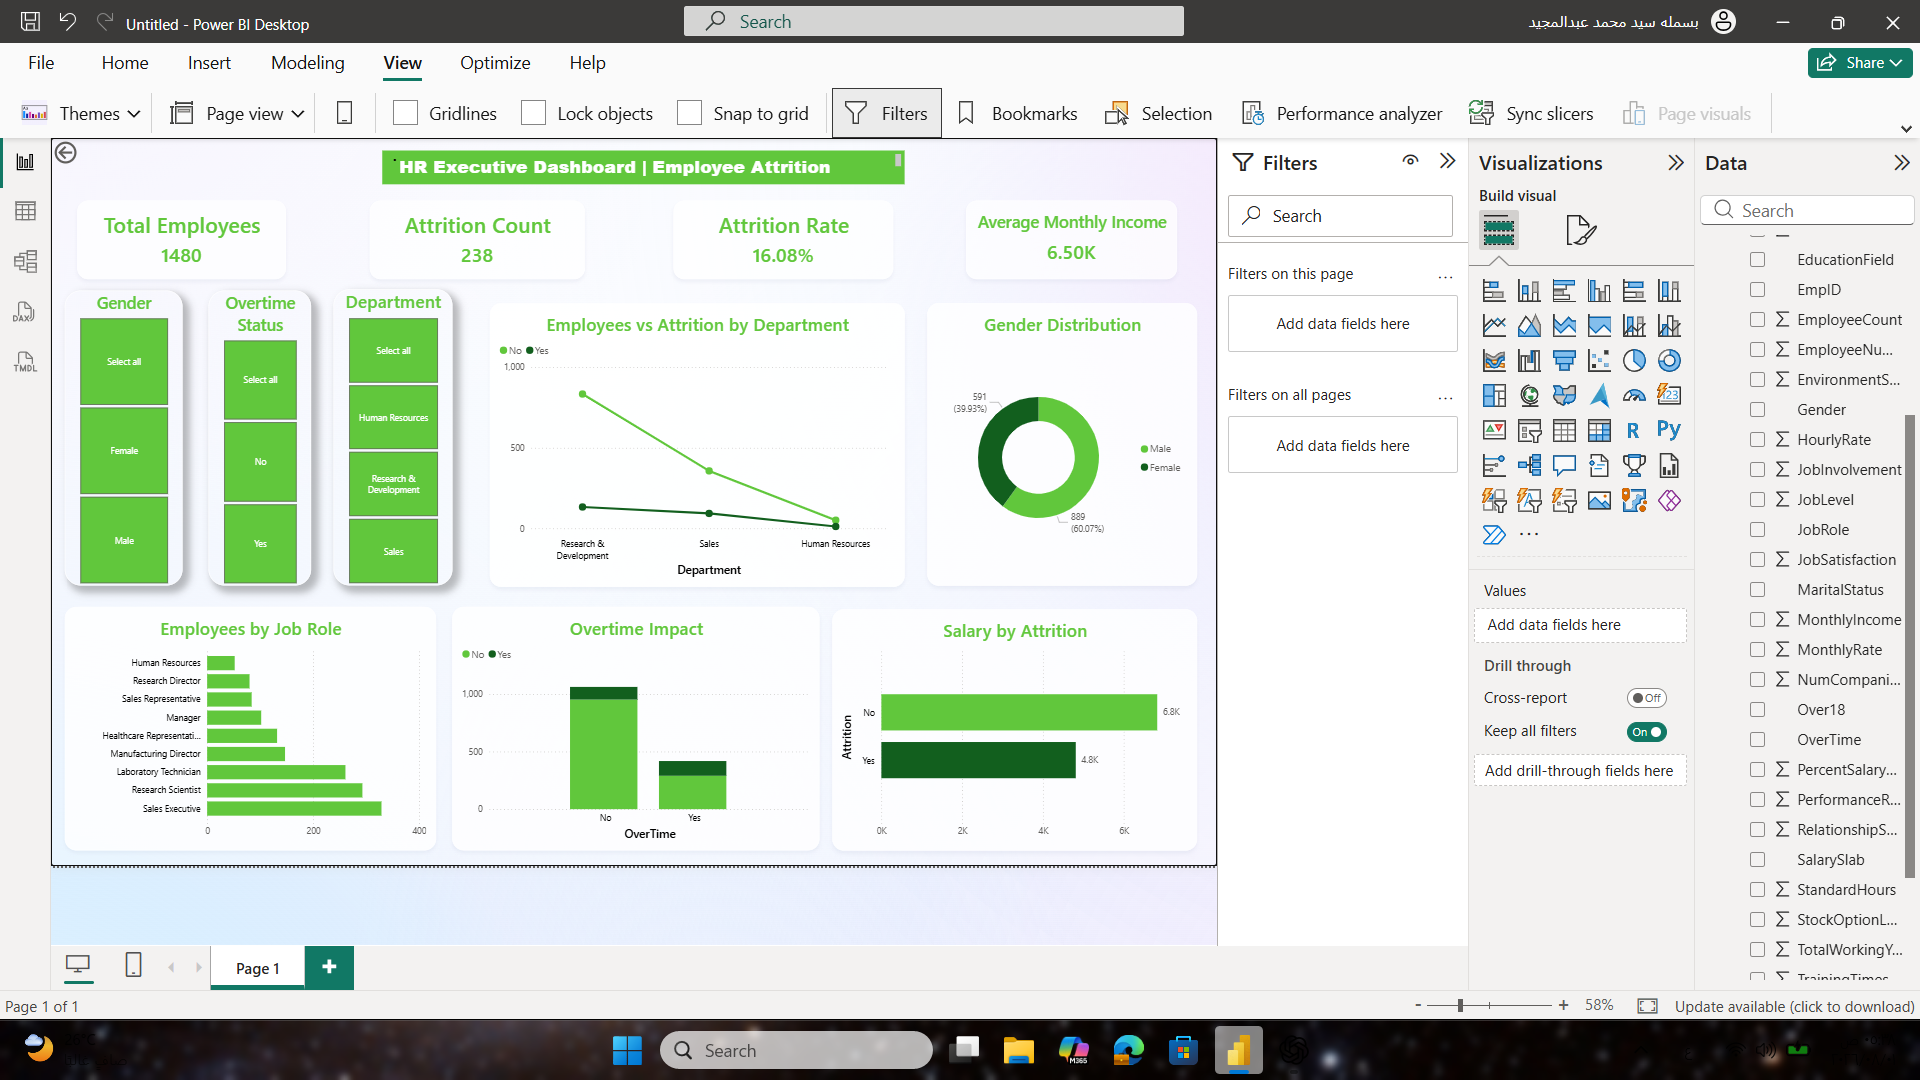

This screenshot's page, from the dashboard's own definition file:
{"tool":"powerbi","page":{"name":"DashBoard","canvas":[1600,1000],"ordinal":0},"visuals":[{"type":"textbox","box":[454.5,17.2,717,46.3],"z":0},{"type":"card","title":"Total Employees","fields":{"Values":["CountNonNull(HR_Analytics.EmpID)"]},"box":[36,85.8,286.5,108.1],"z":1},{"type":"card","title":"Attrition Rate","fields":{"Values":["HR_Analytics.Attrition Rate"]},"box":[854.2,85.8,301.9,108.1],"z":3},{"type":"card","title":"Attrition Count","fields":{"Values":["CountNonNull(HR_Analytics.EmpID)"]},"box":[437.4,85.8,295,108.1],"z":4},{"type":"card","title":"Avg. Monthly Income","fields":{"Values":["Avg(HR_Analytics.MonthlyIncome)"]},"box":[1255.6,85.8,289.9,108.1],"z":5},{"type":"columnChart","title":"Overtime Impact","fields":{"Y":["CountNonNull(HR_Analytics.EmpID)"],"Category":["HR_Analytics.OverTime"],"Series":["HR_Analytics.Attrition"]},"box":[584.9,643.2,487.1,334.5],"z":6},{"type":"clusteredBarChart","title":"Salary by Attrition","fields":{"Category":["HR_Analytics.Attrition"],"Y":["Avg(HR_Analytics.MonthlyIncome)"]},"box":[1092.6,646.7,494,331],"z":7},{"type":"donutChart","title":"Gender Distribution","fields":{"Category":["HR_Analytics.Gender"],"Y":["CountNonNull(HR_Analytics.MaritalStatus)"]},"box":[1202.4,226.4,384.2,387.7],"z":8},{"type":"barChart","title":"Employees by Job Role","fields":{"Category":["HR_Analytics.JobRole"],"Y":["CountNonNull(HR_Analytics.AgeGroup)"]},"box":[18.9,643.2,548.9,334.5],"z":9},{"type":"slicer","title":"Department","fields":{"Values":["HR_Analytics.Department"]},"box":[387.7,207.5,163,406.5],"z":10},{"type":"slicer","title":"Gender","fields":{"Values":["HR_Analytics.Gender"]},"box":[18.9,209.3,161.2,404.8],"z":11},{"type":"actionButton","box":[0,0,100,40],"z":12},{"type":"slicer","title":"Overtime ","fields":{"Values":["HR_Analytics.OverTime"]},"box":[216.1,209.3,140.7,404.8],"z":13},{"type":"lineChart","title":"Employees vs Attrition by Department","fields":{"Category":["HR_Analytics.Department"],"Y":["CountNonNull(HR_Analytics.EmpID)"],"Series":["HR_Analytics.Attrition"]},"box":[602.1,226.4,569.5,389.4],"z":14}]}

Visuals, with their boxes on the page's 1600x1000 design canvas (x1, y1, x2, y2). These are canvas units, not pixel positions in the 1920x1080 screenshot, which may show the page scaled, cropped or inside an application window:
textbox: (454, 17, 1172, 64)
"Total Employees" card: (36, 86, 322, 194)
"Attrition Rate" card: (854, 86, 1156, 194)
"Attrition Count" card: (437, 86, 732, 194)
"Avg. Monthly Income" card: (1256, 86, 1546, 194)
"Overtime Impact" columnChart: (585, 643, 1072, 978)
"Salary by Attrition" clusteredBarChart: (1093, 647, 1587, 978)
"Gender Distribution" donutChart: (1202, 226, 1587, 614)
"Employees by Job Role" barChart: (19, 643, 568, 978)
"Department" slicer: (388, 208, 551, 614)
"Gender" slicer: (19, 209, 180, 614)
actionButton: (0, 0, 100, 40)
"Overtime " slicer: (216, 209, 357, 614)
"Employees vs Attrition by Department" lineChart: (602, 226, 1172, 616)
